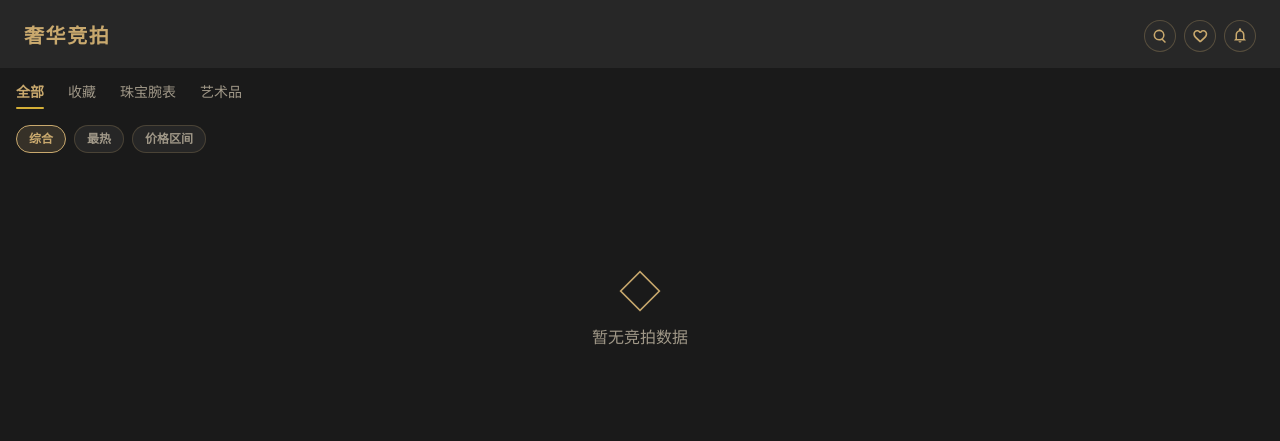
Test: HomePage 分类联动 (T2.10) › 收藏 tab 使用后端 live_stream_id/live_stream_name 渲染并进入直播
Click the button "收藏" at (82, 95), box top-left (68, 81), bottom-right (96, 109)
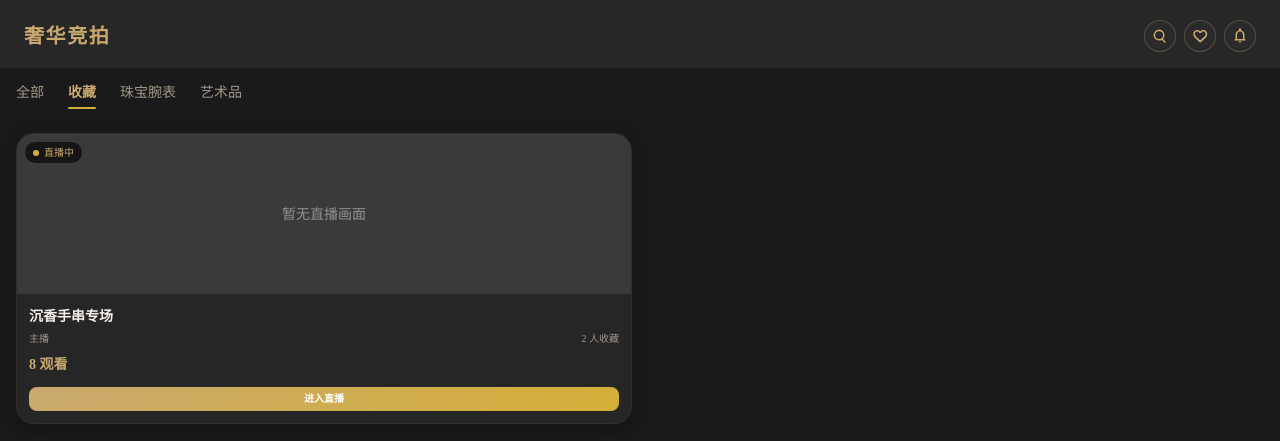
Result: the heading "沉香手串专场" is shown at top-left (29, 309), bottom-right (113, 324)
